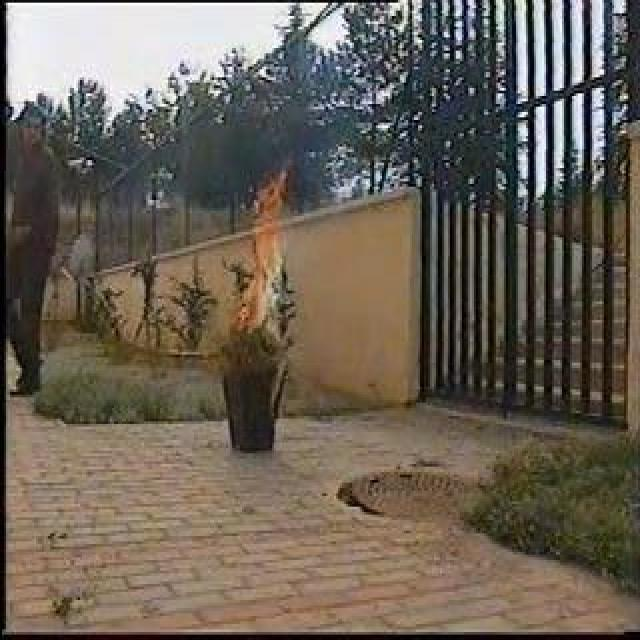fire: (254, 175, 290, 282)
